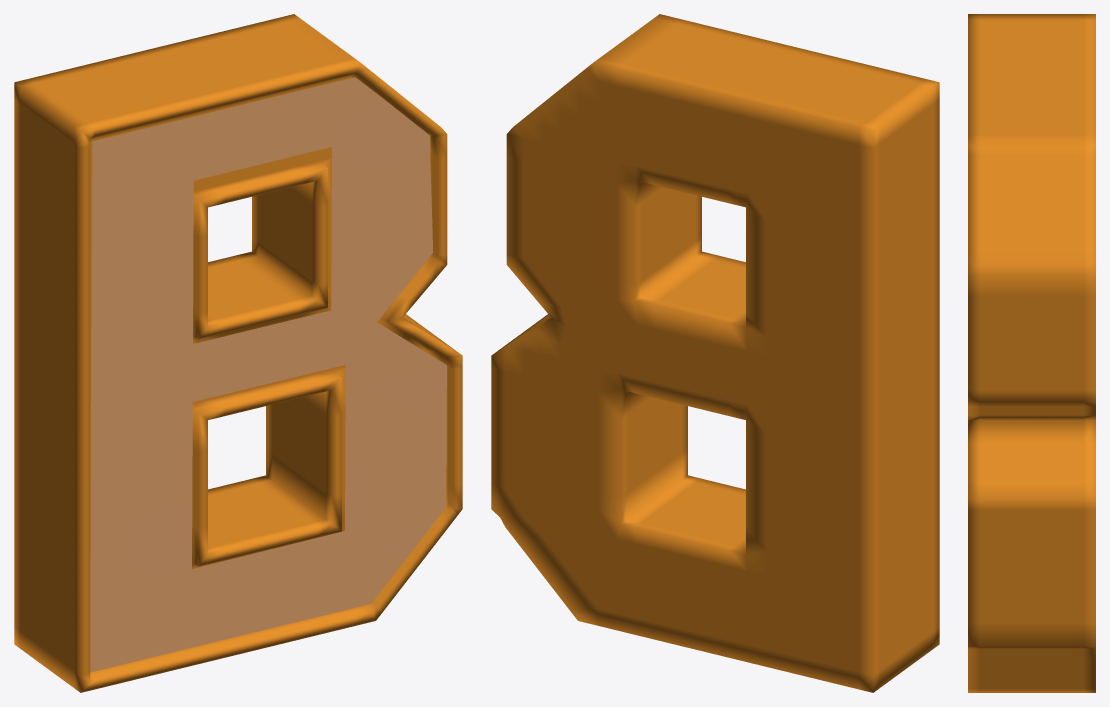
The model's file is B_nuevo.glb.
3 renders of one model, left to right at view 1: azimuth 30°, elevation 25°; view 2: azimuth 150°, elevation 25°; view 3: azimuth 270°, elevation 25°, orthographic. The views are drawn at different scales.
Parts seen in each view (by area): view 1: Plane.096, Text.003, Plane.001; view 2: Text.003; view 3: Text.003.
Boxes of the visible parts, x1=… form: Plane.096: x1=91, y1=78, x2=446, y2=672; Text.003: x1=14, y1=14, x2=462, y2=692; Plane.001: x1=90, y1=77, x2=439, y2=671; Text.003: x1=491, y1=14, x2=939, y2=692; Text.003: x1=968, y1=14, x2=1095, y2=692.
Size of the model in its own units: 2.15 by 3.02 by 0.6461.
